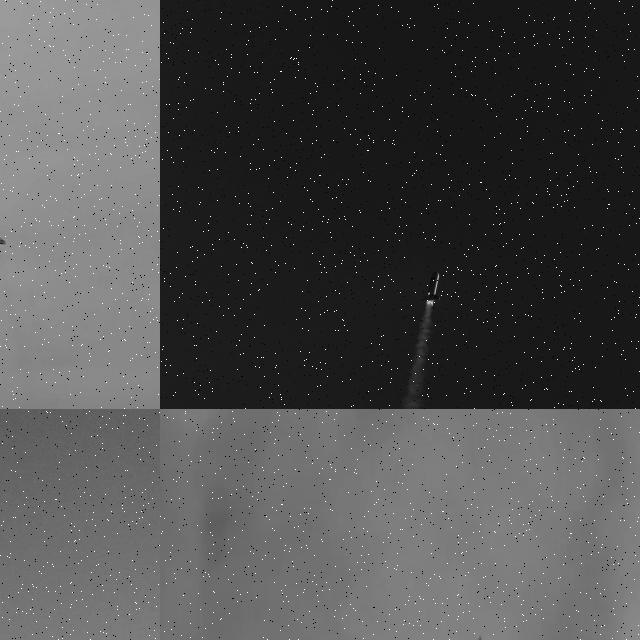Rocket: (419, 271, 442, 307), (0, 178, 7, 247), (471, 636, 481, 640)
